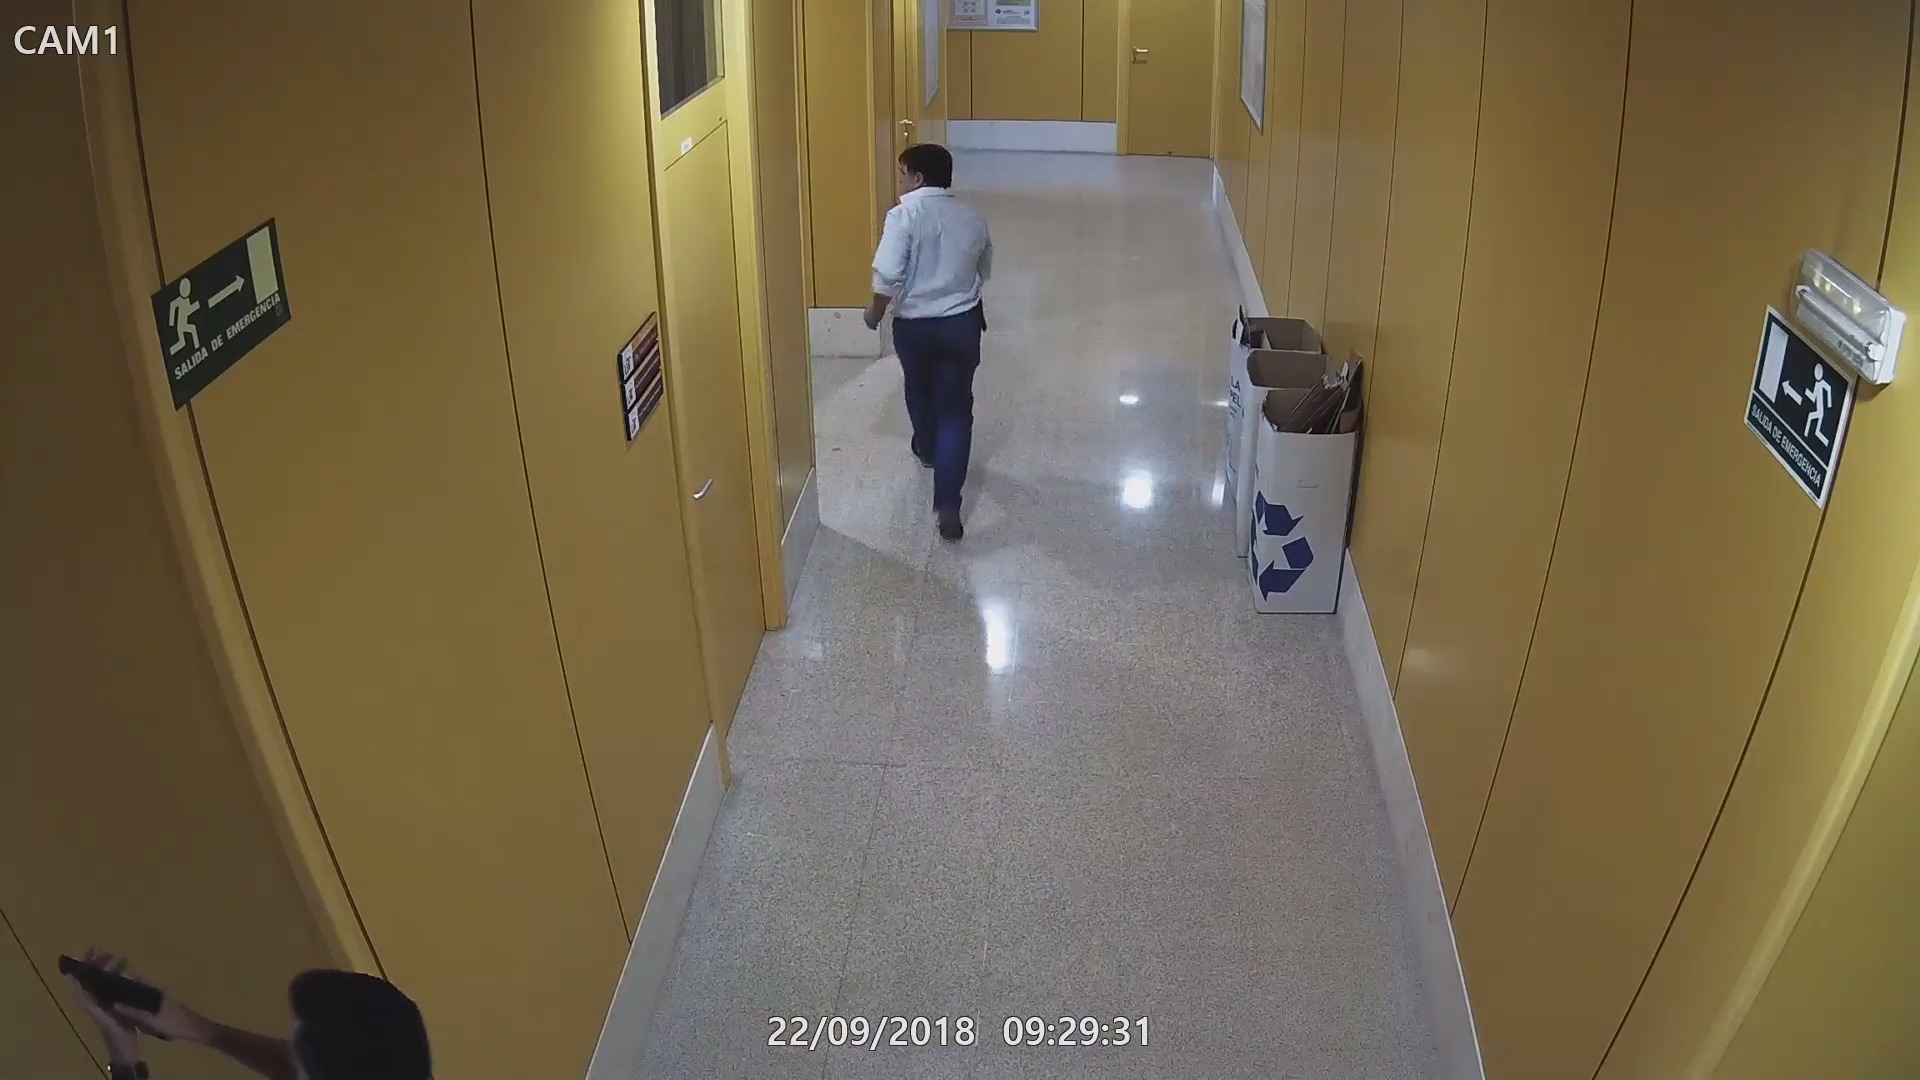Handgun: (58, 949, 181, 1058)
